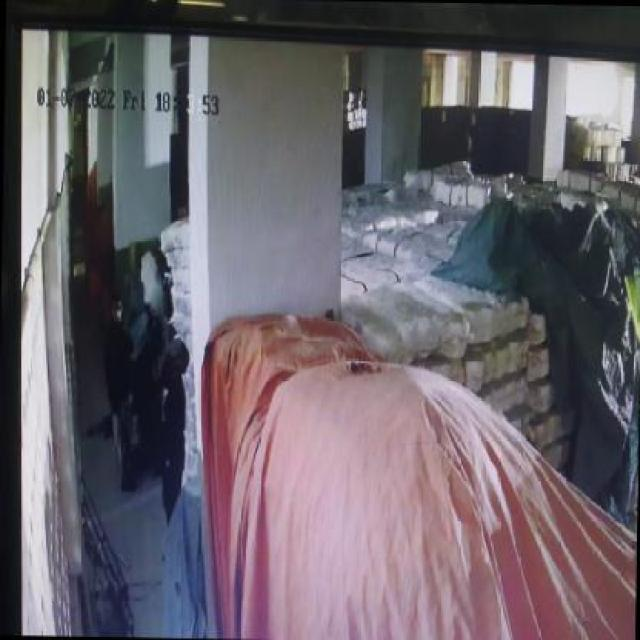fire: (136, 244, 158, 318)
